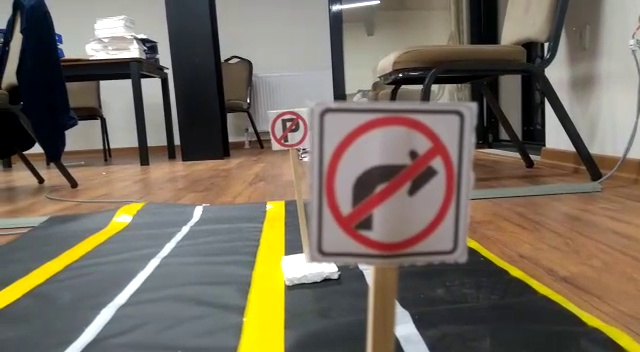park_yapilmaz: (272, 111, 311, 150)
saga_donulmez: (313, 105, 462, 261)
